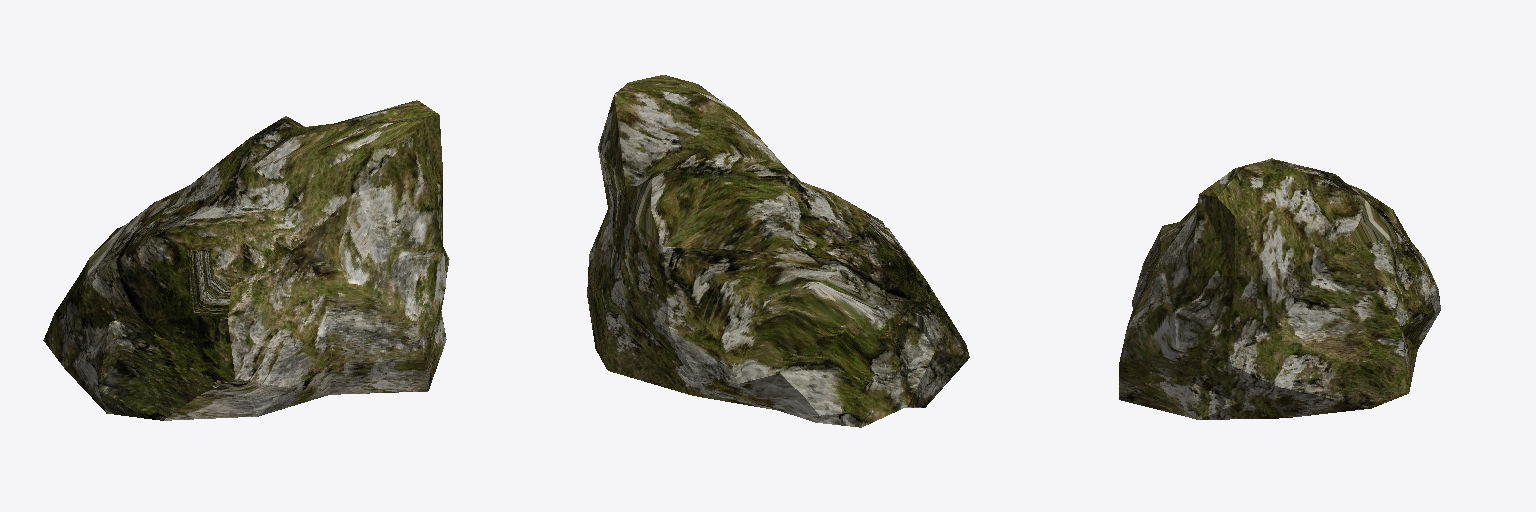
3 views of the same model, side by side, from view 1: azimuth 30°, elevation 25°; view 2: azimuth 150°, elevation 25°; view 3: azimuth 270°, elevation 25° (orthographic).
Parts seen in each view (by area): view 1: 立方体.001; view 2: 立方体.001; view 3: 立方体.001.
Boxes of the visible parts, box(x1,y1,x2,y2) form: 立方体.001: box(43, 100, 449, 420); 立方体.001: box(587, 75, 969, 427); 立方体.001: box(1119, 158, 1440, 419).
Bounding box in the file's own units: 5.67 × 3.8 × 4.4.
Materials: 1 (1 with a texture image).